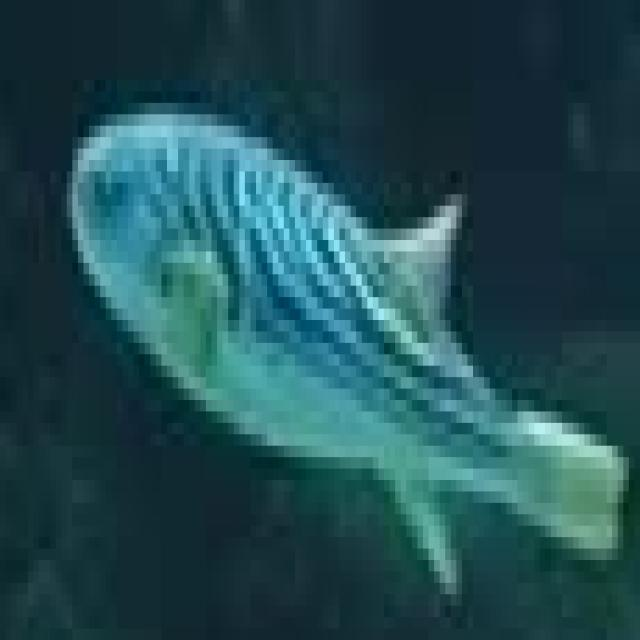fish: (0, 11, 635, 639)
